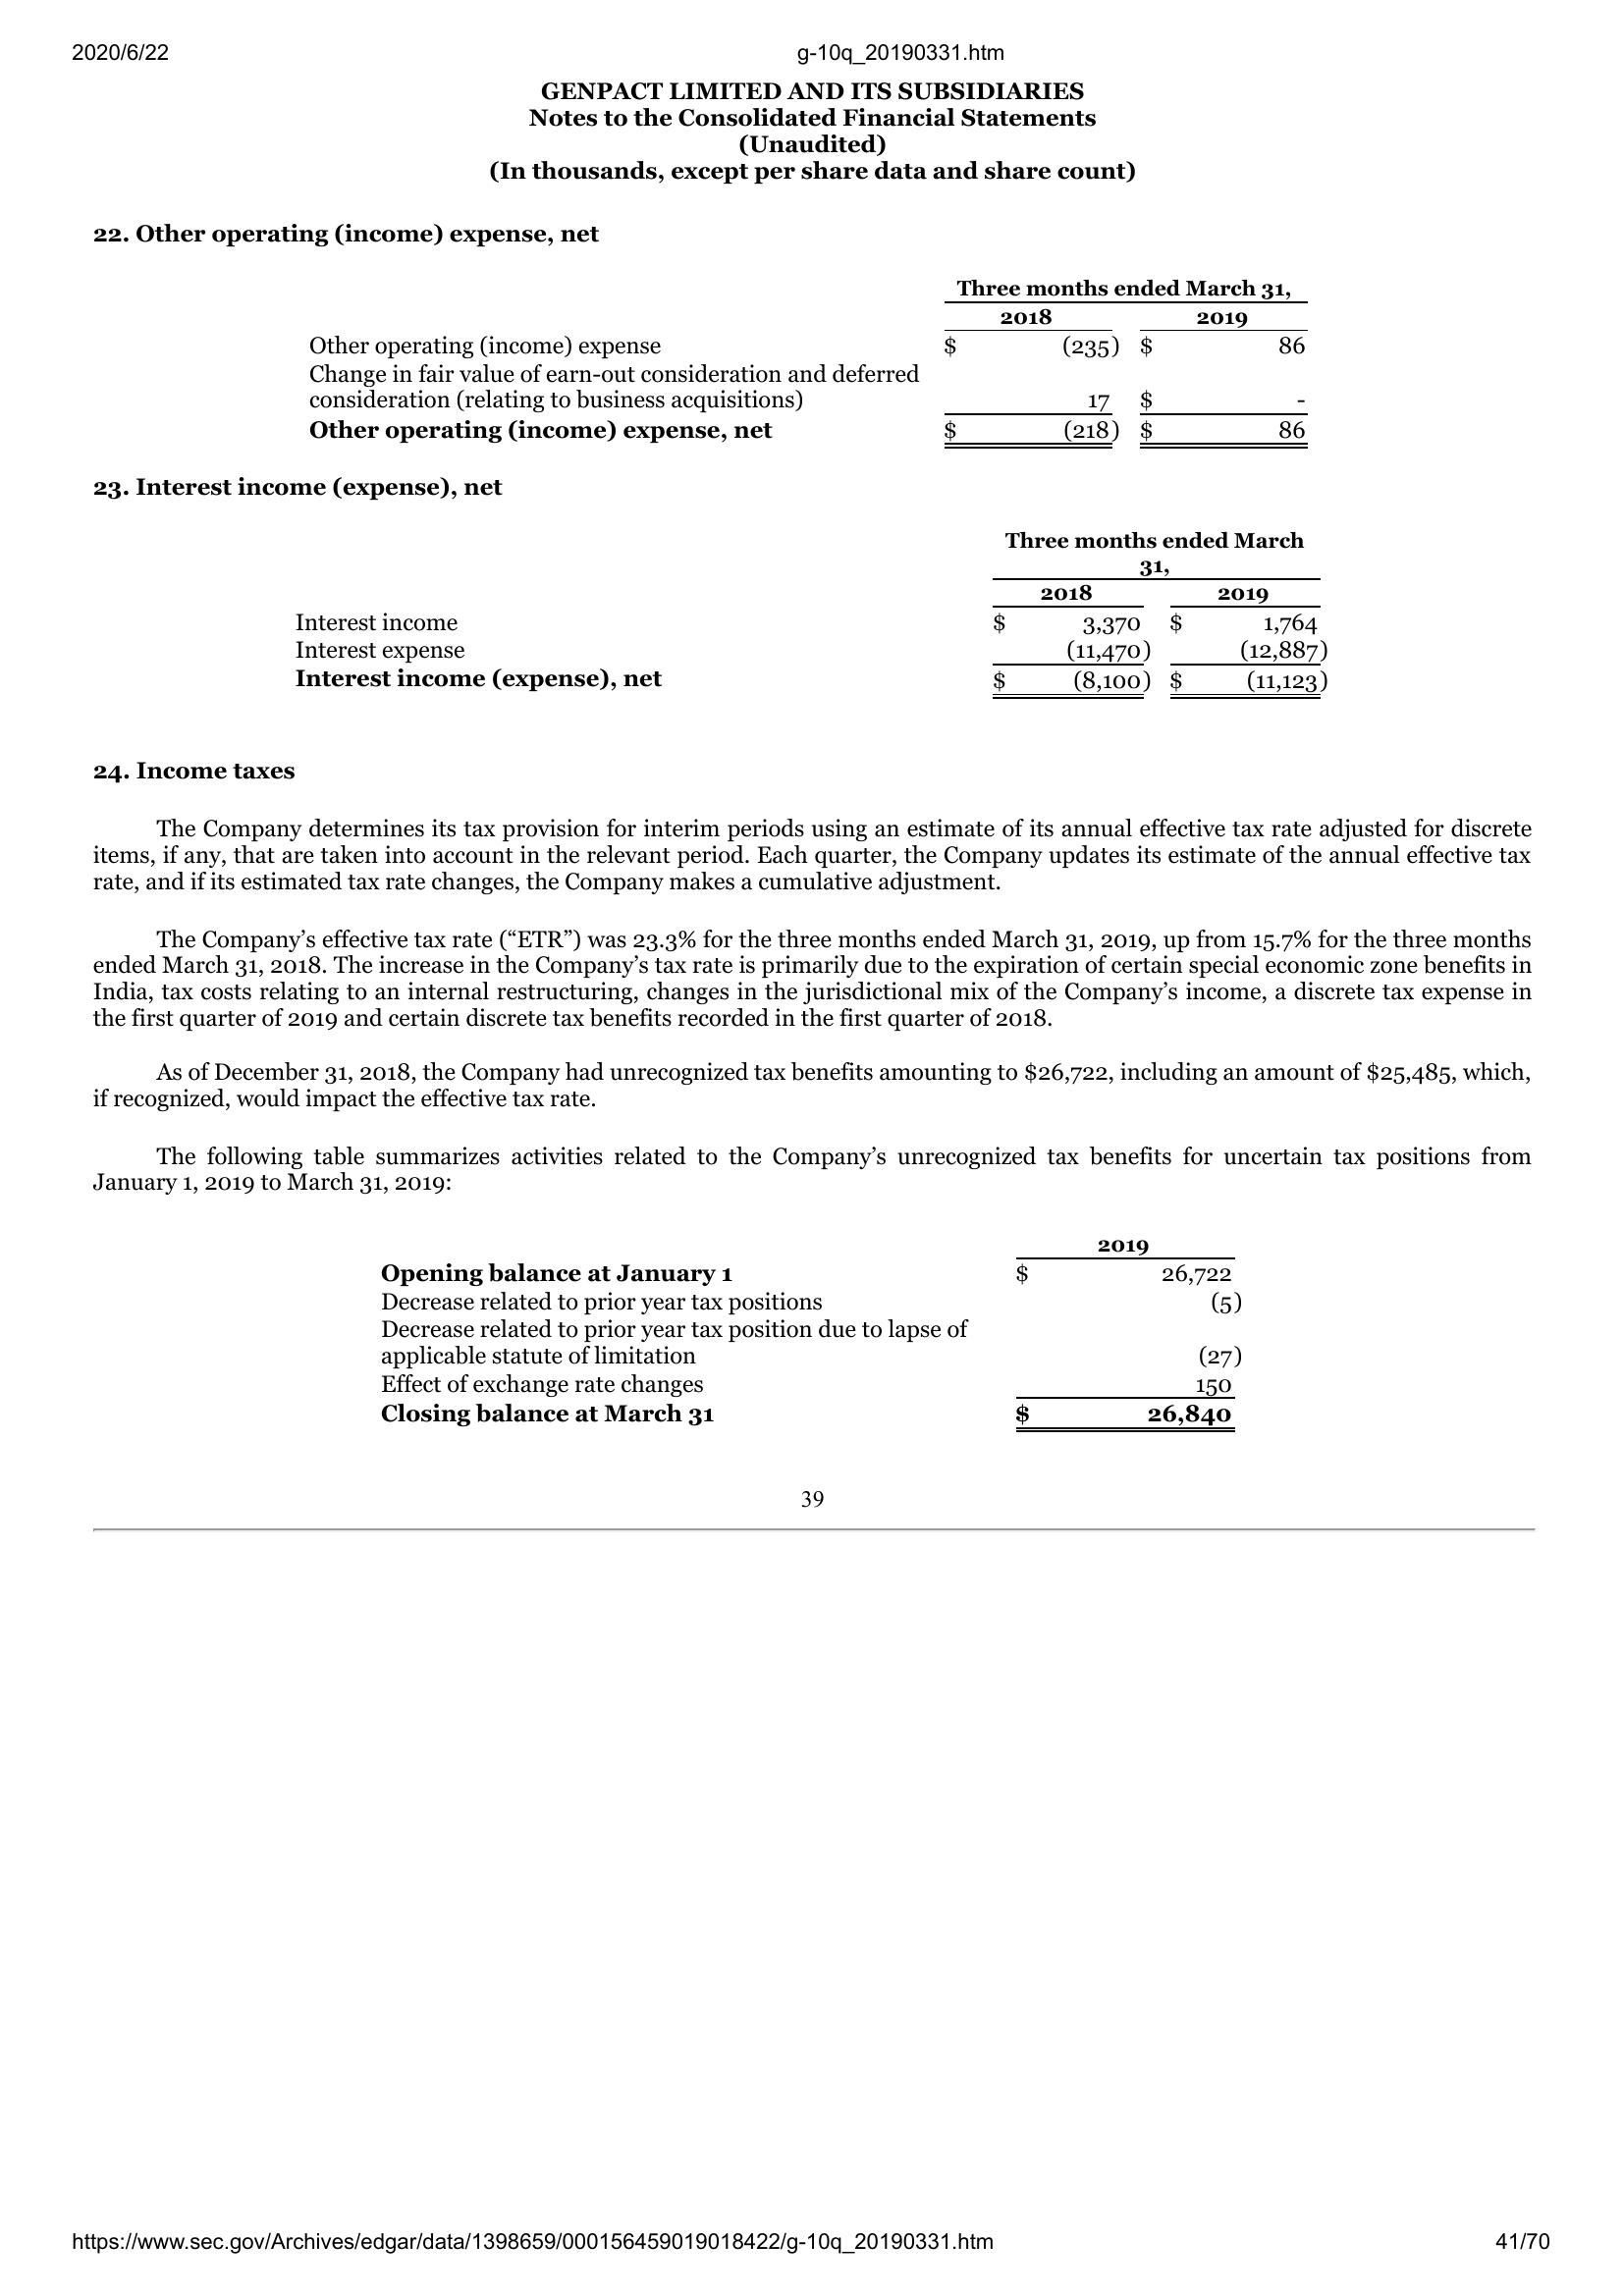table: (288, 516, 1338, 706), (295, 274, 1317, 455), (372, 1229, 1247, 1439)
